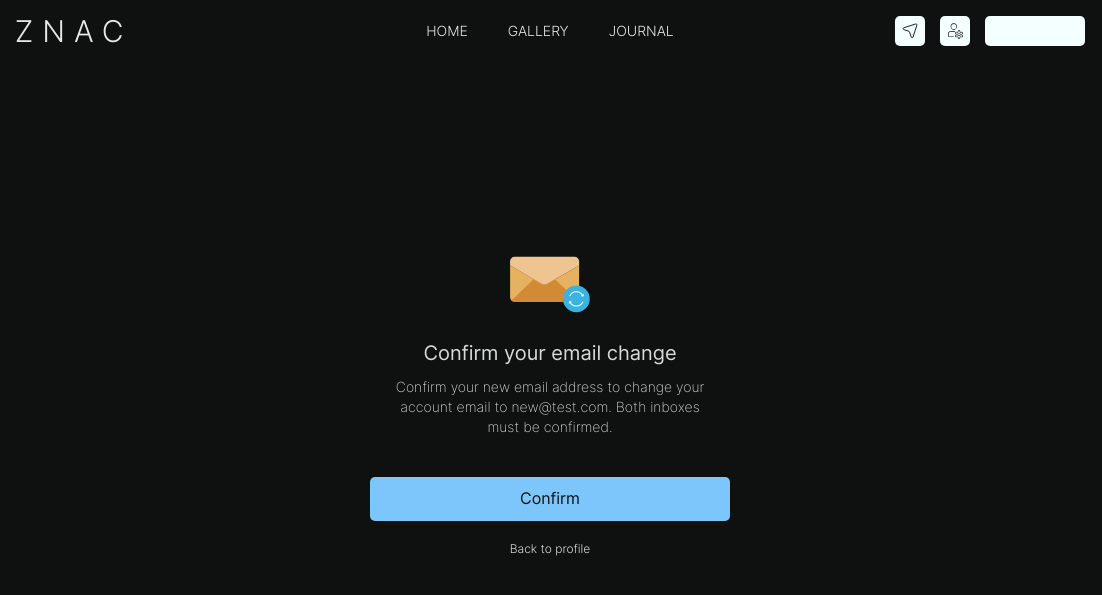
Test: a duplicate email conflict is shown and does not sign the user out
This screenshot has width=1102, height=595.
Click the button "Confirm".
click(550, 498)  # box [370, 476, 730, 520]
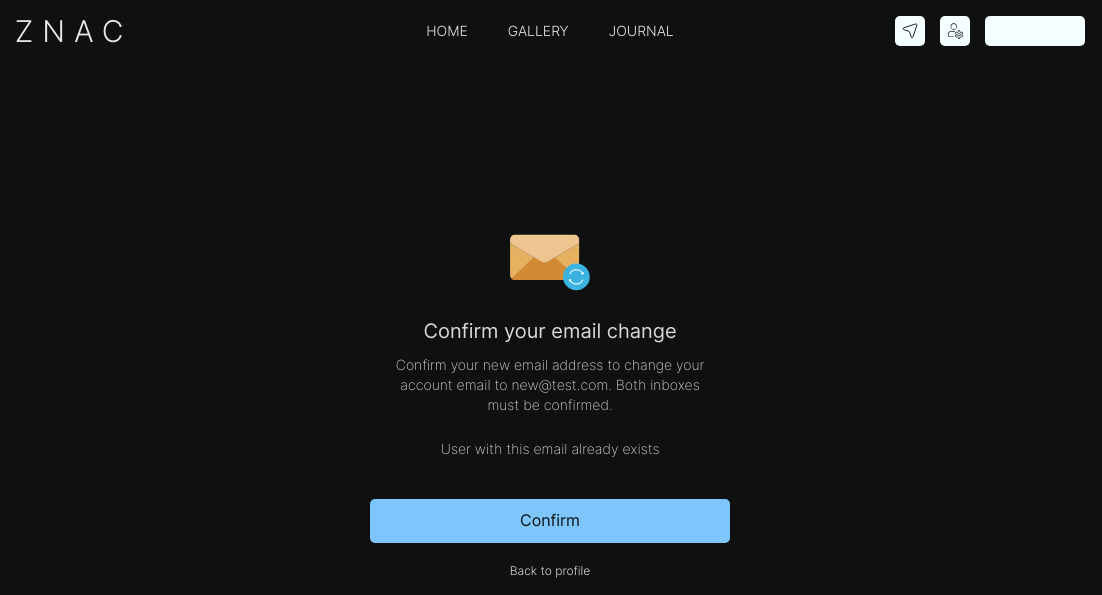
Check: the button "Confirm" is enabled, box [370, 498, 730, 542]
Check: the message reads "User with this email already exists", box [440, 440, 660, 456]
